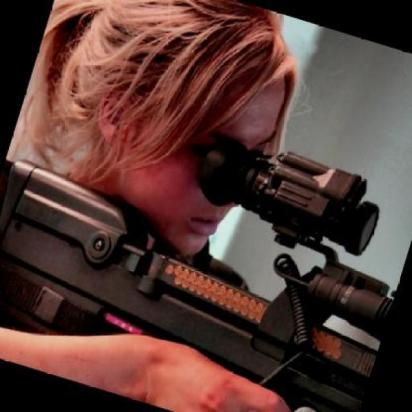Gun: (0, 83, 412, 412)
